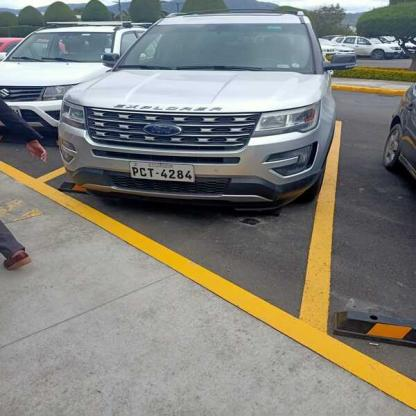Placa: (127, 162, 201, 187)
